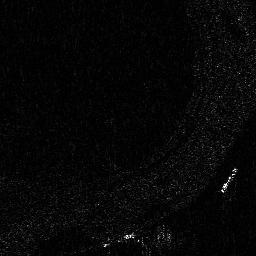ship: (219, 165, 239, 193)
